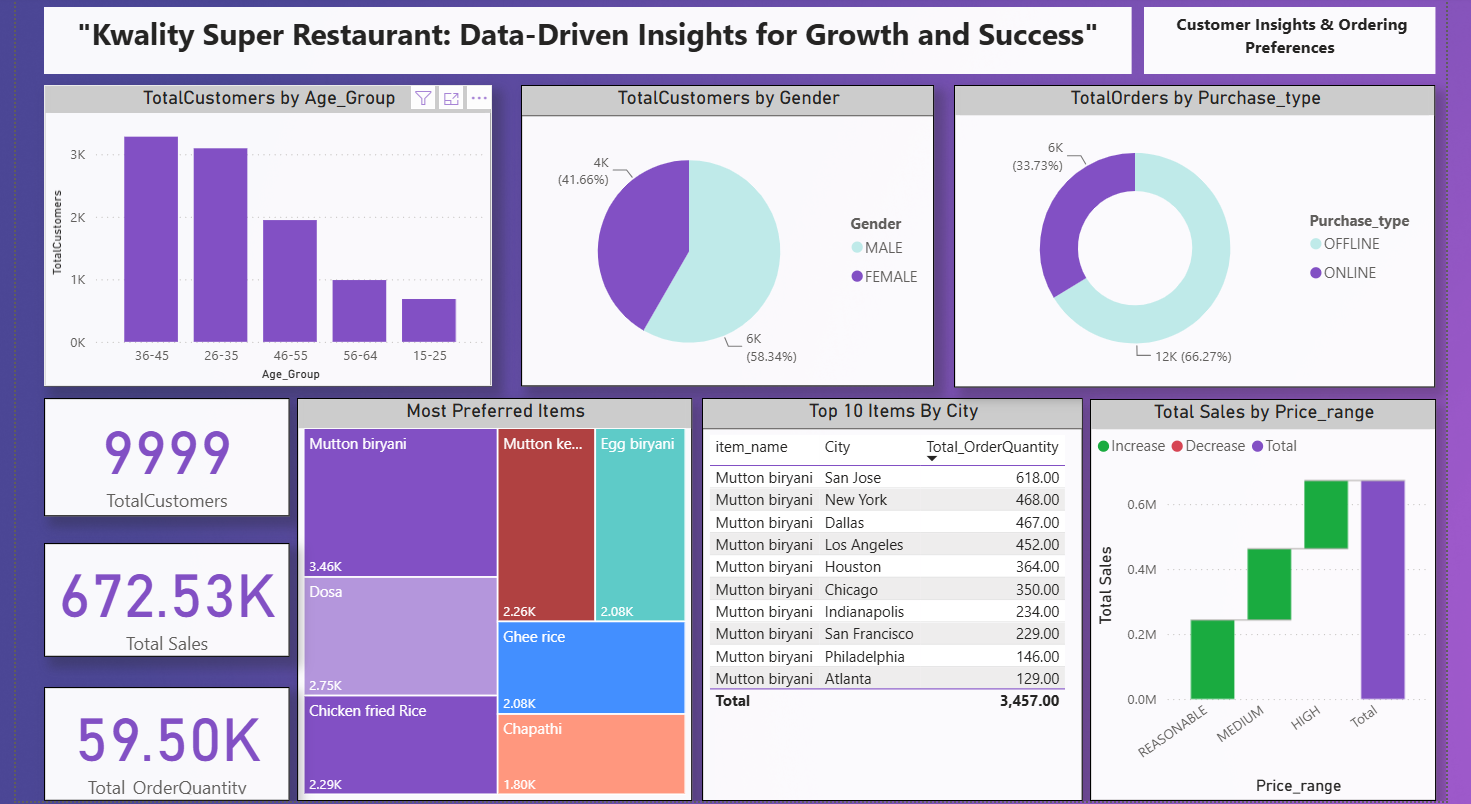

The page's visual inventory and layout, read from the dashboard file:
{"tool":"powerbi","page":{"name":"Customer Insights & Ordering Preferences","canvas":[1280,720],"ordinal":0},"visuals":[{"type":"columnChart","fields":{"Y":["DAX Measures.TotalCustomers"],"Category":["Dim_Customers.Age_Group"]},"box":[25,78.8,401.2,270],"z":0},{"type":"card","fields":{"Values":["DAX Measures.TotalCustomers"]},"box":[25.1,359.1,220.3,105.7],"z":1000},{"type":"pieChart","fields":{"Y":["DAX Measures.TotalCustomers"],"Category":["Dim_Customers.Gender"]},"box":[452.5,78.8,370,270],"z":2000},{"type":"treemap","title":"Most Preferred Items","fields":{"Values":["DAX Measures.Total_OrderQuantity"],"Group":["Dim_Menu Items.item_name"]},"box":[251.6,359.1,353.7,360.9],"z":3000},{"type":"tableEx","title":"Top 10 Items By City","fields":{"Values":["Dim_Menu Items.item_name","Dim_Geography.City","DAX Measures.Total_OrderQuantity"]},"box":[614.3,359.1,341.2,360.9],"z":4000},{"type":"donutChart","fields":{"Y":["DAX Measures.TotalOrders"],"Category":["Fact_Order Details.Purchase_type"]},"box":[840,78.8,431.2,271.2],"z":5000},{"type":"card","fields":{"Values":["DAX Measures.Total_OrderQuantity"]},"box":[25.1,617.9,220.3,102.1],"z":6000},{"type":"card","fields":{"Values":["DAX Measures.Total Sales"]},"box":[25.1,489,220.3,102.1],"z":7000},{"type":"textbox","box":[1010,8.8,261.2,60],"z":8000},{"type":"textbox","box":[25,8.8,973.8,60],"z":9000},{"type":"waterfallChart","fields":{"Category":["Fact_Order Details.Price_range","Fact_Order Details.RatingCategory"],"Y":["DAX Measures.Total Sales"]},"box":[961.8,360,309.9,360],"z":9001}]}

Visuals, with their boxes in screenshot pixels (x1, y1, x2, y2), scaled from the page's 1280x720 canvas onto the 1471x804 screenshot:
columnChart - DAX Measures.TotalCustomers x Dim_Customers.Age_Group: (x1=29, y1=88, x2=490, y2=389)
card - DAX Measures.TotalCustomers: (x1=29, y1=401, x2=282, y2=519)
pieChart - DAX Measures.TotalCustomers x Dim_Customers.Gender: (x1=520, y1=88, x2=945, y2=389)
"Most Preferred Items" treemap: (x1=289, y1=401, x2=696, y2=803)
"Top 10 Items By City" tableEx: (x1=706, y1=401, x2=1098, y2=803)
donutChart - DAX Measures.TotalOrders x Fact_Order Details.Purchase_type: (x1=965, y1=88, x2=1461, y2=391)
card - DAX Measures.Total_OrderQuantity: (x1=29, y1=690, x2=282, y2=803)
card - DAX Measures.Total Sales: (x1=29, y1=546, x2=282, y2=660)
textbox: (x1=1161, y1=10, x2=1461, y2=77)
textbox: (x1=29, y1=10, x2=1148, y2=77)
waterfallChart - Fact_Order Details.Price_range x Fact_Order Details.RatingCategory: (x1=1105, y1=402, x2=1461, y2=803)
